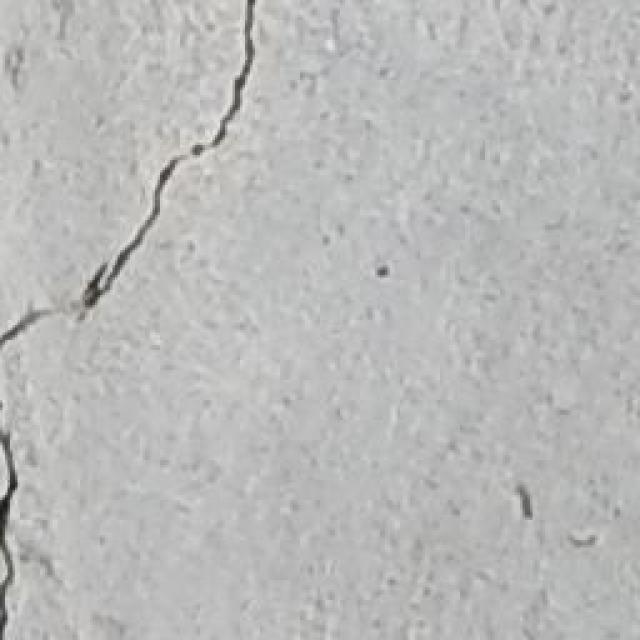concrete-crack: (0, 0, 262, 357), (0, 429, 22, 640)
